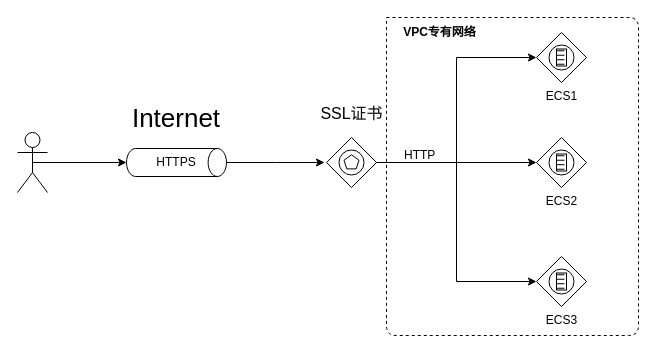
Image size: 657x354. Some labels were removed from this diagram. Here are the shapes that lost their labels. From the top down, the box of each, then its label:
(16, 132, 48, 192): 用户
(326, 136, 376, 188): SLB
